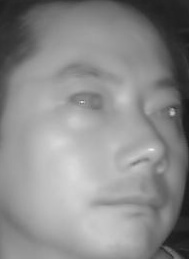eye: (68, 89, 108, 116), (151, 100, 184, 124)
mouth: (91, 186, 168, 223)
